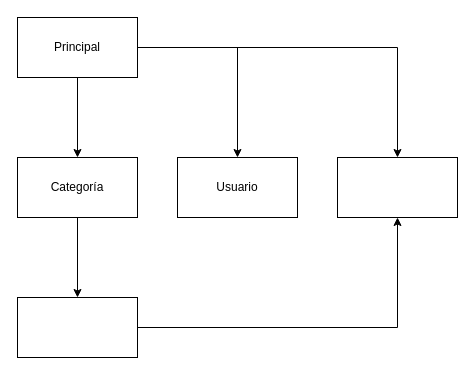
The diagram is 475 pixels wide and 375 high, and some of its shapes have lost their labels. The centre of each missing label's shape, as x and y in pixels:
Cesta: (397,187)
Elemento: (77,327)
